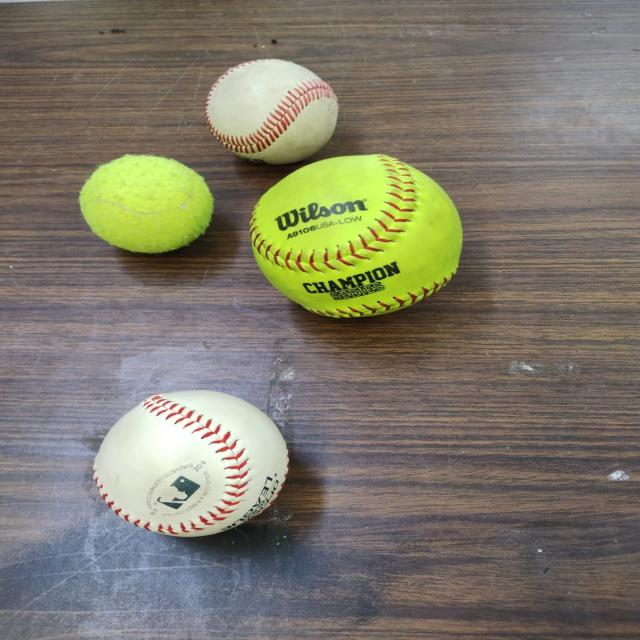beisbol ball: (84, 384, 297, 540), (204, 58, 340, 163)
softball ball: (246, 154, 463, 316)
tenis ball: (76, 153, 216, 254)
